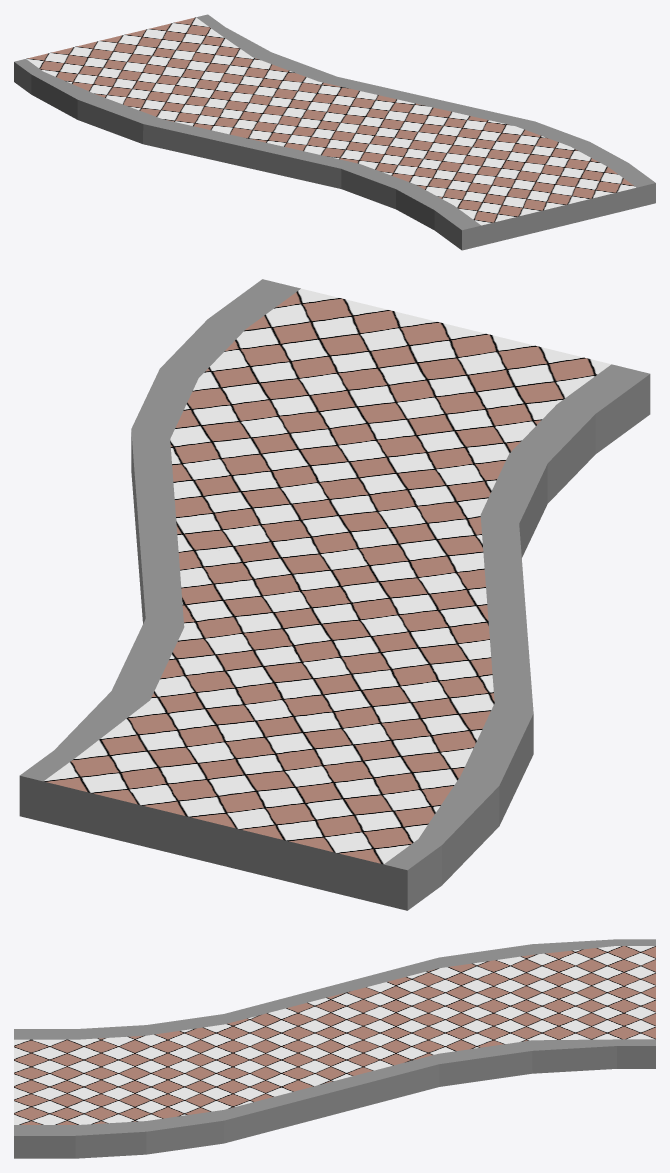
Rendered from zigzagchunk1.fbx.
3 views of the same model, one above another, from view 1: azimuth 30°, elevation 25°; view 2: azimuth 150°, elevation 25°; view 3: azimuth 270°, elevation 25° (orthographic). The views are drawn at different scales.
Visible parts, largest first — view 1: zigzagchunk1; view 2: zigzagchunk1; view 3: zigzagchunk1.
Boxes of the visible parts, x1,y1,x2,y2 form: zigzagchunk1: (14, 14, 655, 250); zigzagchunk1: (19, 279, 650, 910); zigzagchunk1: (14, 939, 655, 1158).
Bounding box in the file's own units: 117 × 162 × 6.37.
